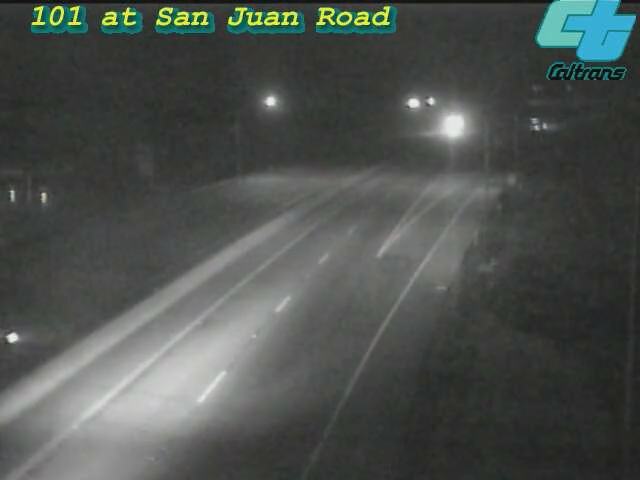vehicle: (1, 284, 58, 394), (425, 102, 475, 152), (511, 99, 561, 149)
